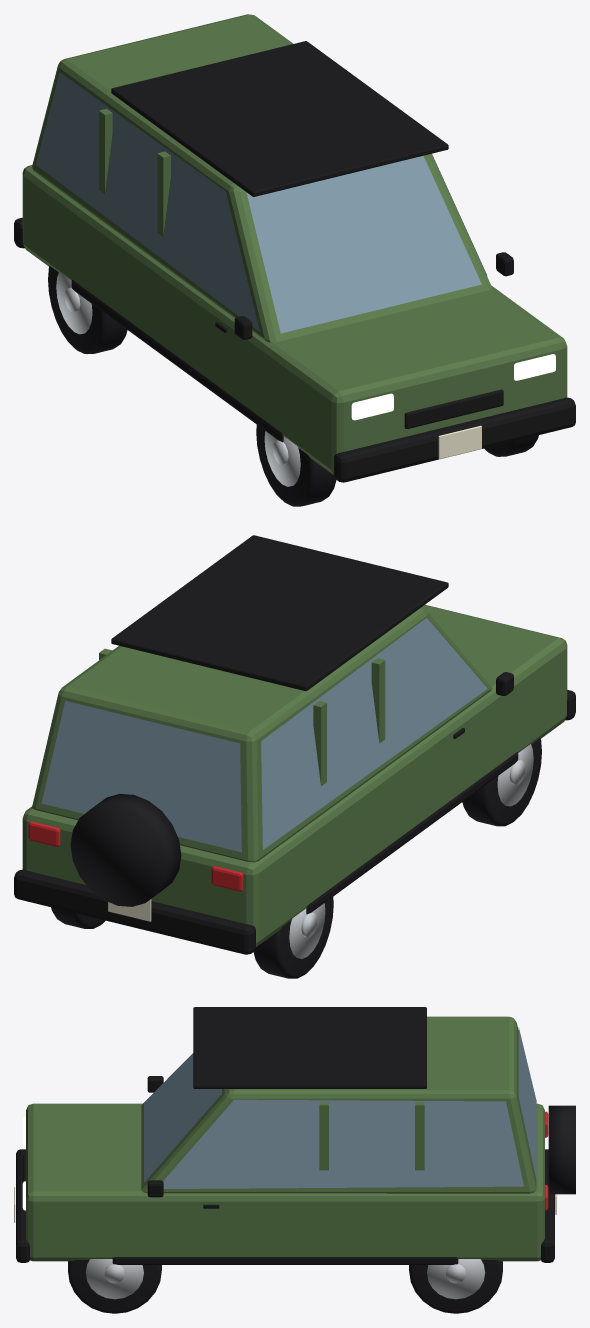
File: suv.glb
3 renders of one model, top to bottom at view 1: azimuth 30°, elevation 25°; view 2: azimuth 150°, elevation 25°; view 3: azimuth 270°, elevation 25°, orthographic. The views are drawn at different scales.
Parts seen in each view (by area): view 1: suvBody, wheelFR, wheelRR, wheelFL; view 2: suvBody, wheelRR, wheelFR, wheelRL; view 3: suvBody, wheelRL, wheelFL.
Part boxes in pixels (x1,y1,x2,y2): suvBody: (14, 14, 575, 482); wheelFR: (256, 425, 336, 506); wheelRR: (48, 266, 127, 353); wheelFL: (484, 435, 538, 456); suvBody: (14, 535, 575, 954); wheelRR: (253, 897, 333, 978); wheelFR: (462, 738, 541, 826); wheelRL: (51, 907, 105, 928); suvBody: (14, 1007, 575, 1264); wheelRL: (409, 1259, 502, 1313); wheelFL: (68, 1259, 161, 1313).
Size of the model in its own units: 2.08 by 1.99 by 4.55.
